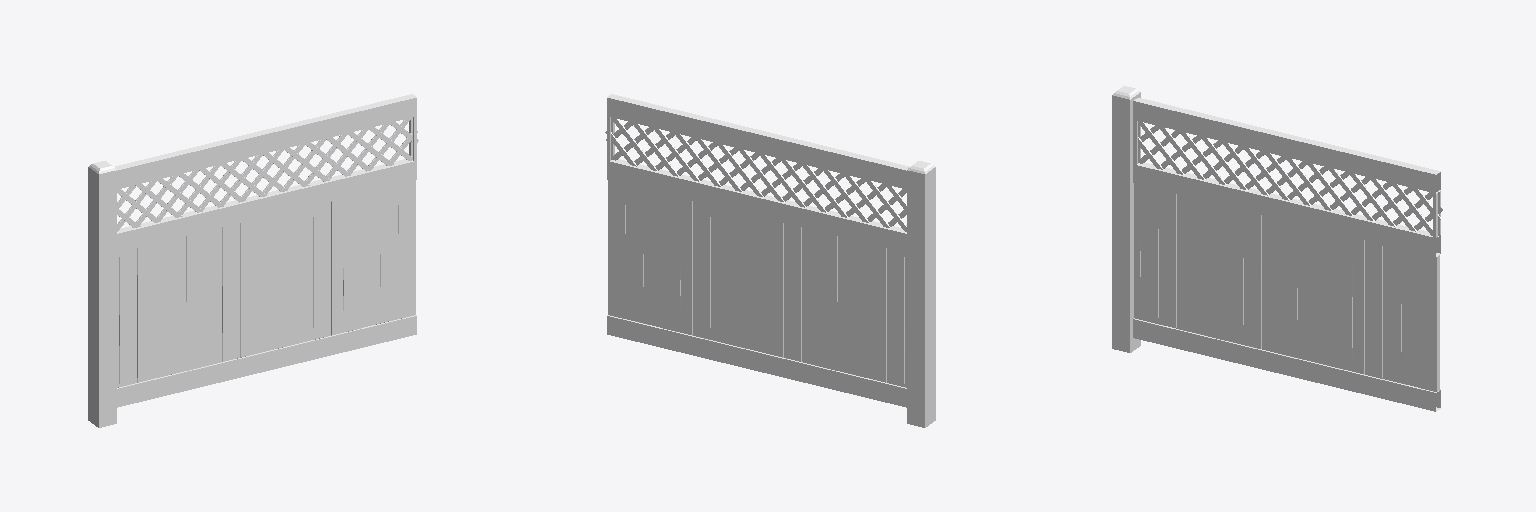
3 views of the same model, side by side, from view 1: azimuth 30°, elevation 25°; view 2: azimuth 150°, elevation 25°; view 3: azimuth 330°, elevation 25° (orthographic).
Parts seen in each view (by area): view 1: F_M1_Fill.001, F_M1_Top_Support.001, F_M1_Post_02.001; view 2: F_M1_Fill.001, F_M1_Top_Support.001, F_M1_Post_02.001; view 3: F_M1_Fill.001, F_M1_Top_Support.001, F_M1_Post_02.001.
Boxes of the visible parts, x1=… form: F_M1_Fill.001: x1=117, y1=118, x2=418, y2=387; F_M1_Top_Support.001: x1=115, y1=94, x2=416, y2=407; F_M1_Post_02.001: x1=88, y1=161, x2=116, y2=427; F_M1_Fill.001: x1=605, y1=118, x2=906, y2=387; F_M1_Top_Support.001: x1=607, y1=94, x2=908, y2=407; F_M1_Post_02.001: x1=907, y1=161, x2=935, y2=427; F_M1_Fill.001: x1=1134, y1=121, x2=1442, y2=391; F_M1_Top_Support.001: x1=1133, y1=98, x2=1440, y2=411; F_M1_Post_02.001: x1=1112, y1=86, x2=1140, y2=352.
Bounding box in the file's own units: 0.9993 × 0.7576 × 0.0555.